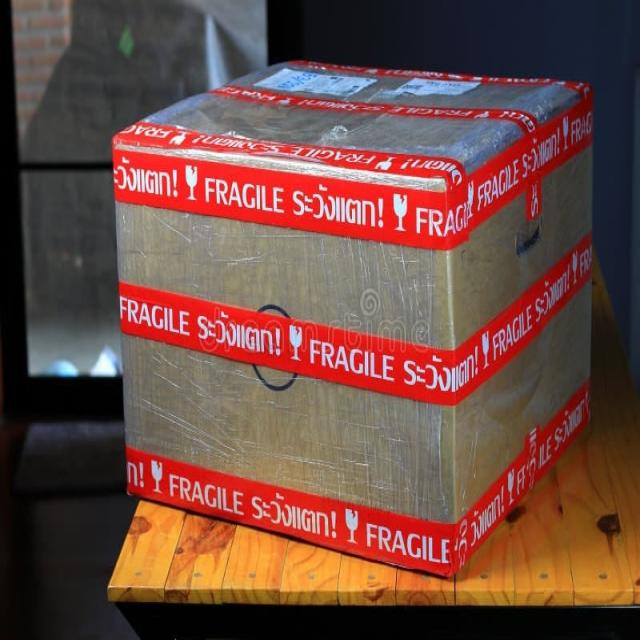carton_box: (110, 55, 634, 585)
fragile_label: (280, 308, 402, 400), (338, 497, 458, 576), (175, 151, 290, 227), (145, 451, 249, 534), (391, 184, 479, 254), (287, 130, 403, 182), (478, 298, 537, 380), (500, 453, 554, 512)
